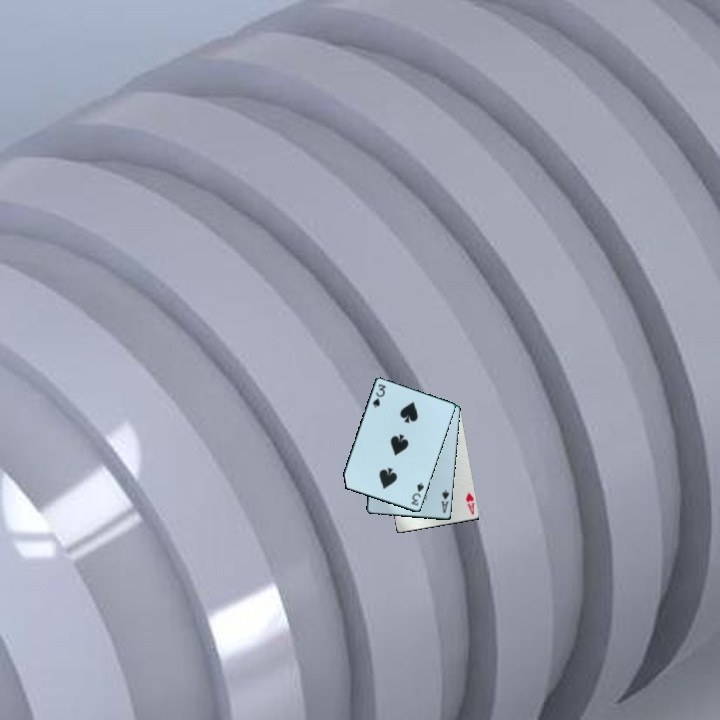3s: (369, 381, 389, 411), (408, 479, 427, 509)
Ah: (462, 489, 478, 518)
As: (438, 487, 452, 516)
